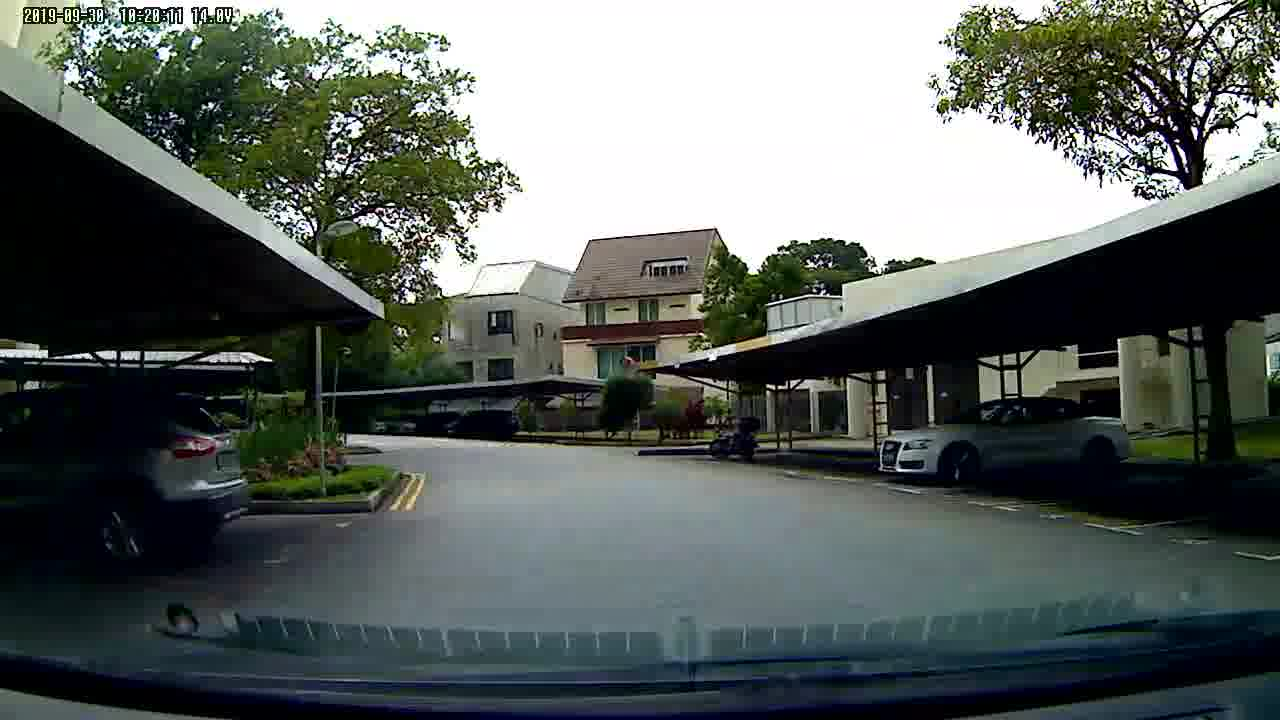car: (69, 377, 276, 572), (873, 396, 1138, 491)
